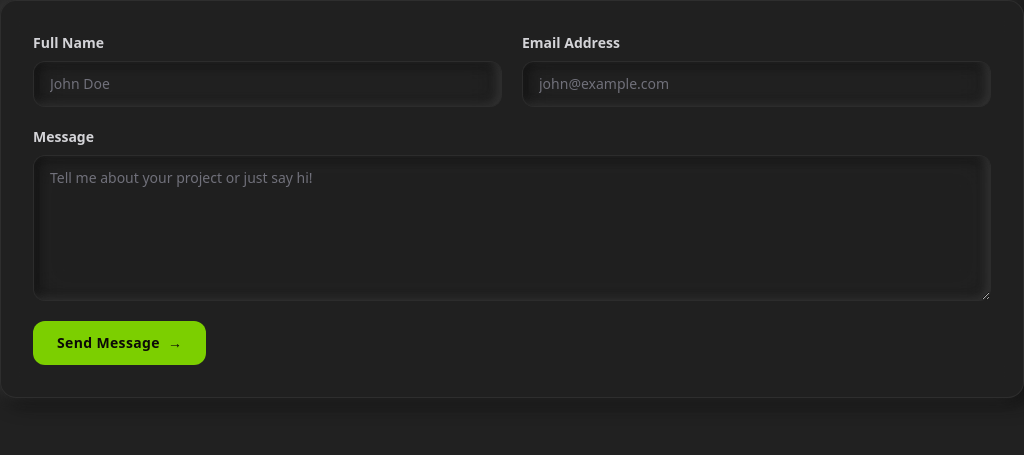
Test: shows an error message when the request fails
Type "Jane Doe" into the field with test id "contactFormName".
click(268, 84); type("Jane Doe")  # box 33,61 -> 502,107
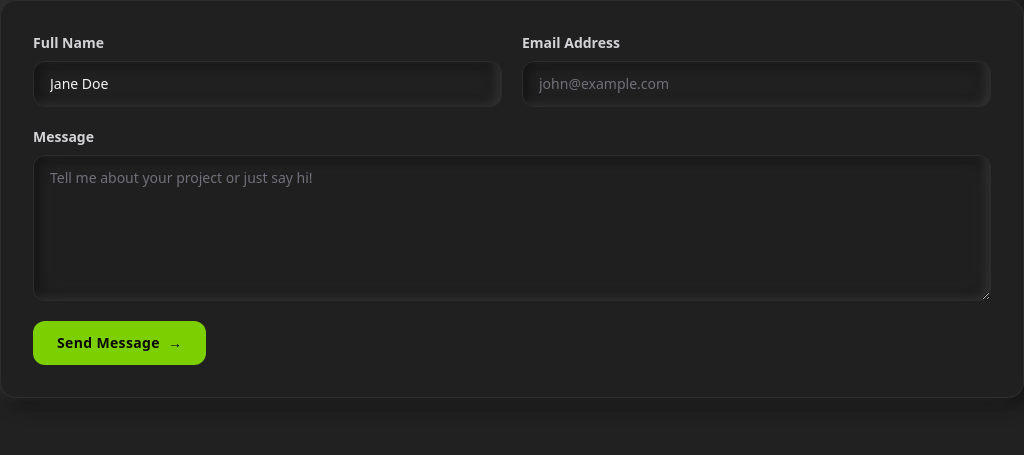
Type "jane@example.com" into the field with test id "contactFormEmail".
click(756, 84); type("jane@example.com")  # box 522,61 -> 991,107
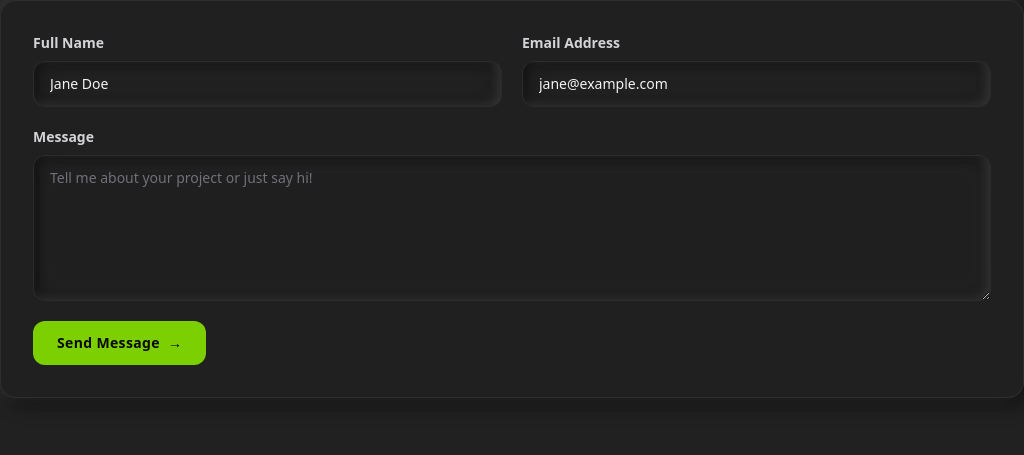
Type "Hello there" into the text box with test id "contactFormMessage".
click(512, 228); type("Hello there")  # box 33,155 -> 991,301
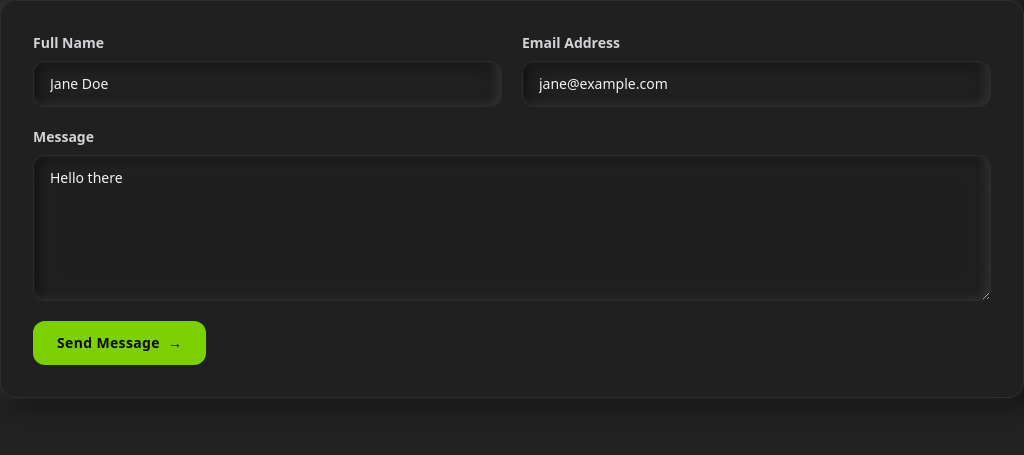
Click the button with test id "contactFormSubmit".
click(120, 343)  # box 33,321 -> 206,365
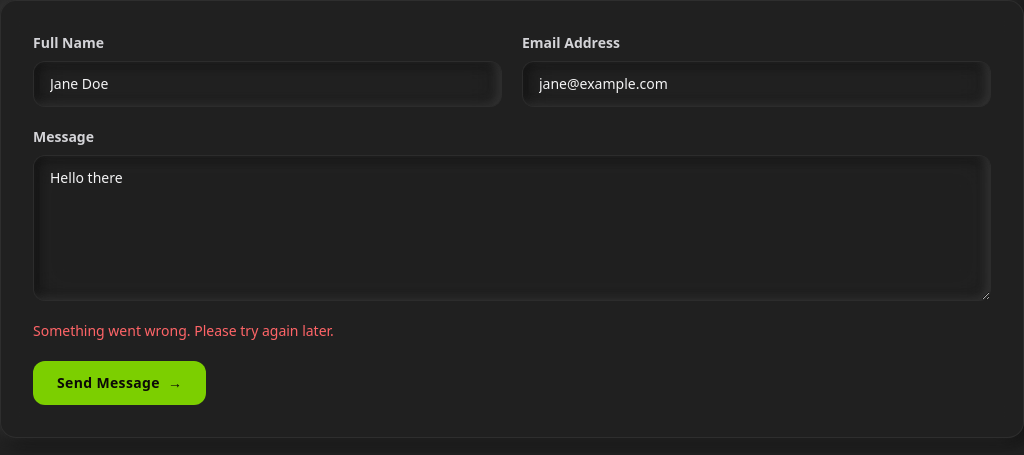
expect the text "Something went wrong. Please try again later." is shown: met, box 33,321 -> 334,340
